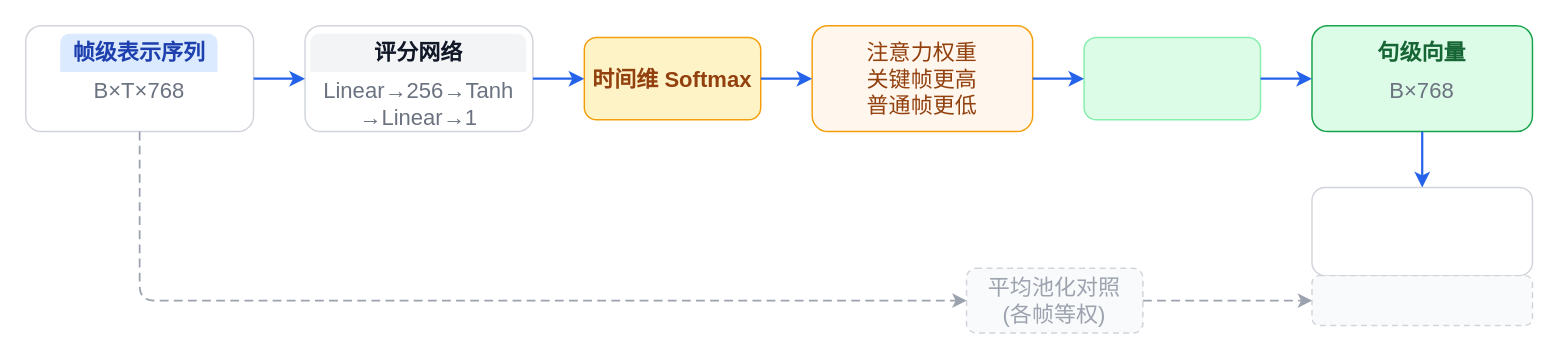
This 1558x359 diagram has some shape labels left out. The centre of each missing label's shape, as x and y in pixels:
分类器 768→256→6: the point at 1421,231
加权求和: the point at 1172,78
平均池化句级向量: the point at 1421,300
